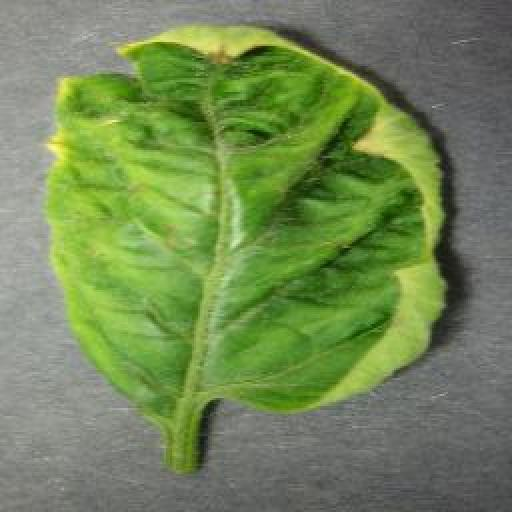disease_tomato: (38, 23, 453, 417)
